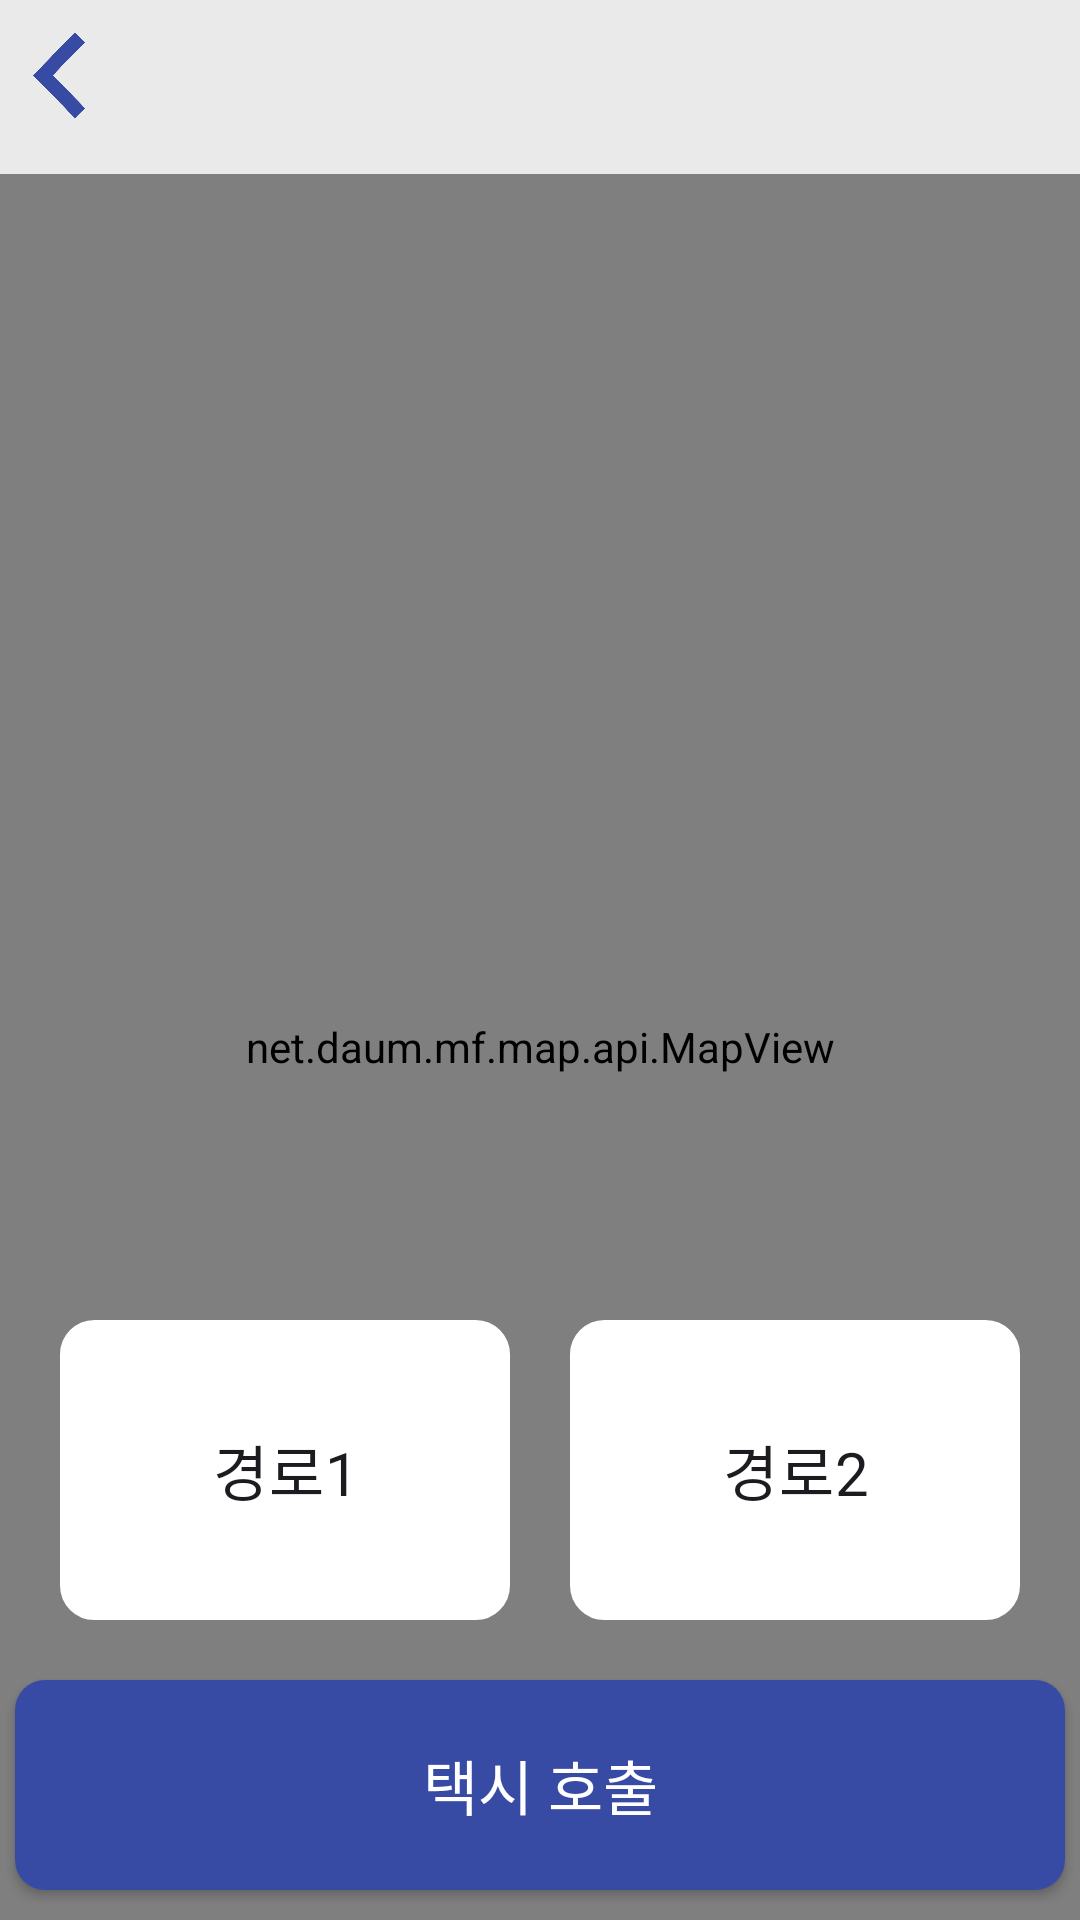

Where to tap for icons on this 1080px x 1920px app screen, as point (x, y):
backkey: point (59, 75)
